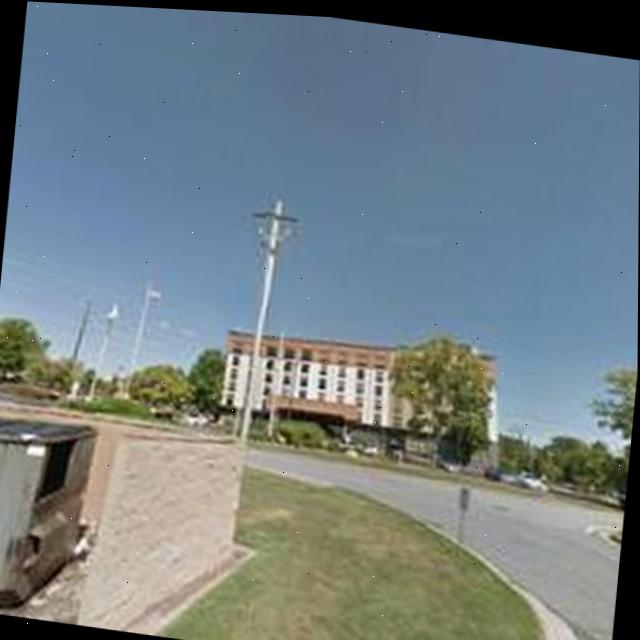building: (213, 313, 507, 482)
